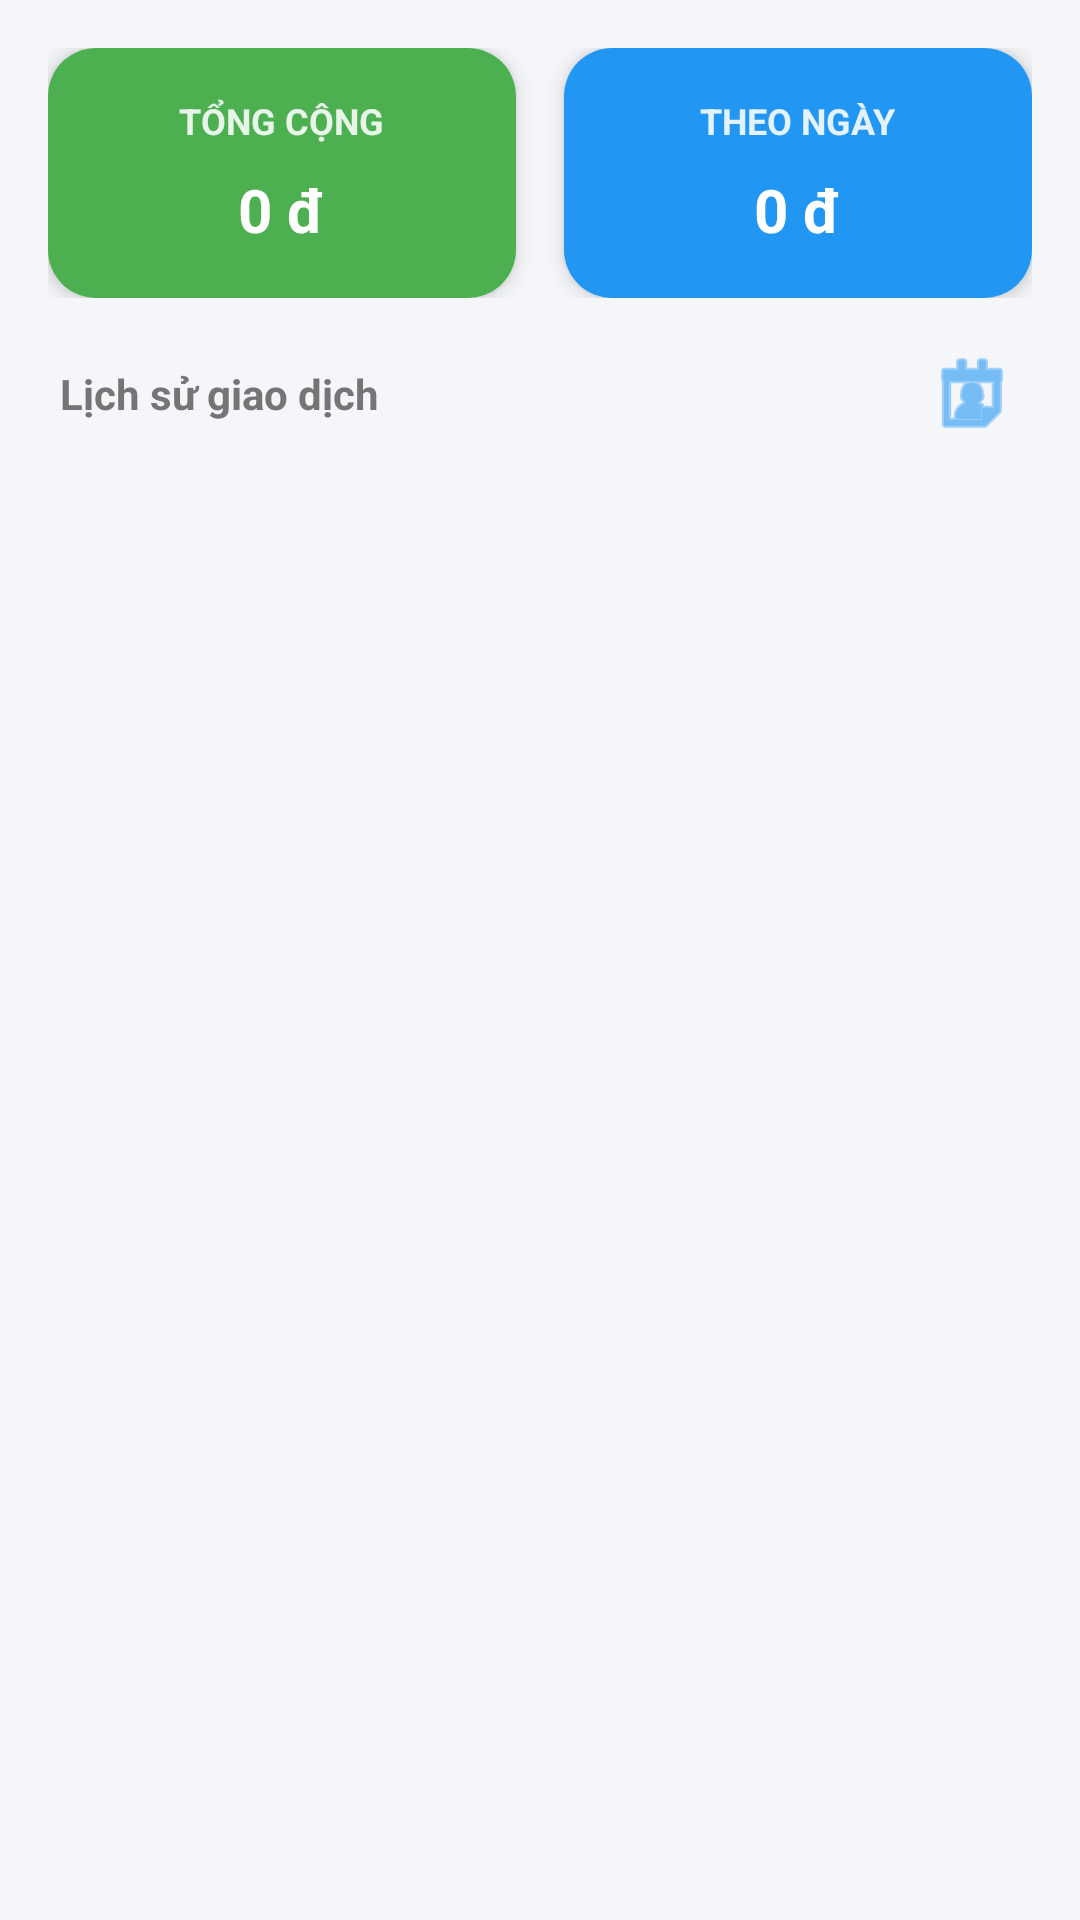

Point at icon controls on the screen. Image size 1080px×1920px, points as (x,y).
calendar: (972,393)
